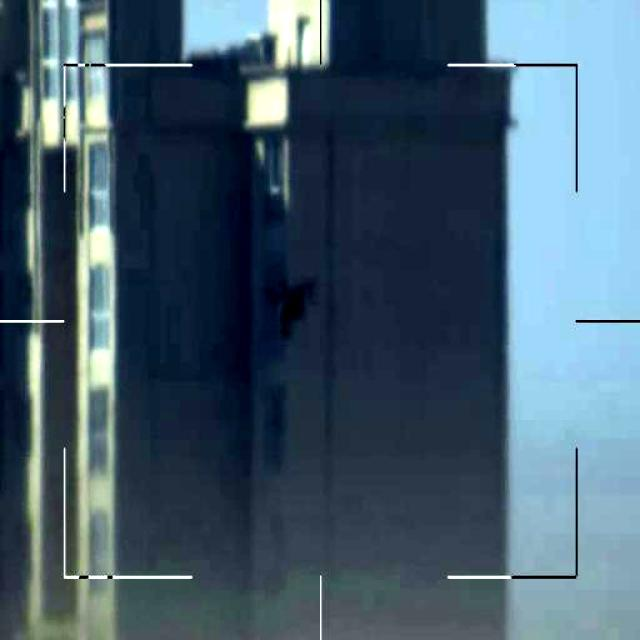bird: (264, 275, 321, 346)
